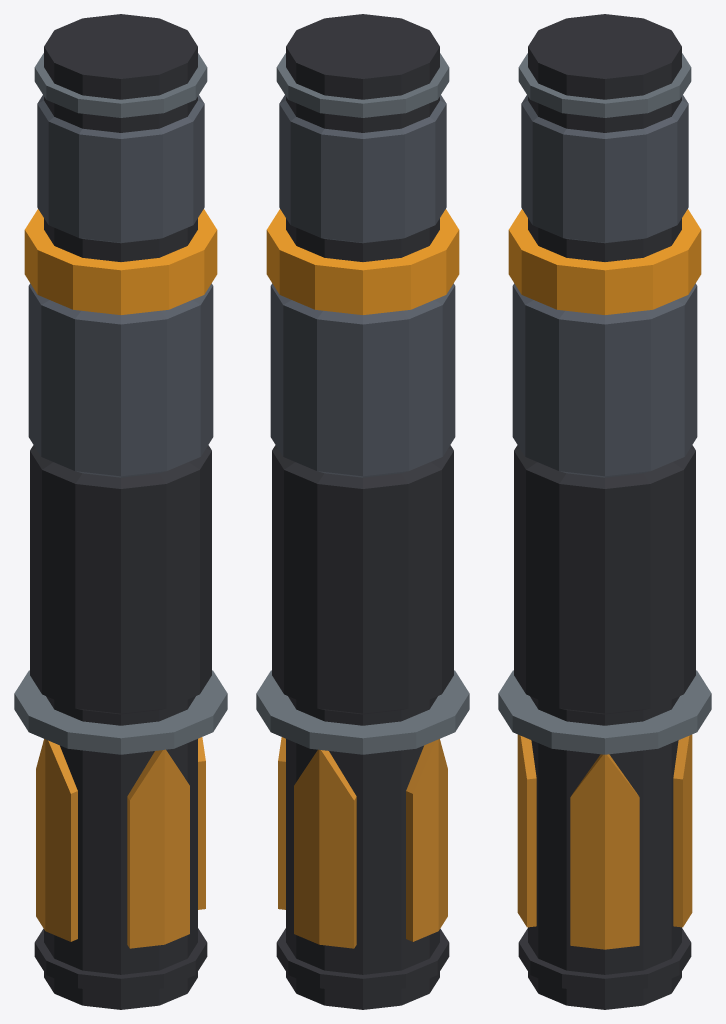
Rendered from SM_Electric_pipe.glb.
3 views of the same model, side by side, from view 1: azimuth 30°, elevation 25°; view 2: azimuth 150°, elevation 25°; view 3: azimuth 270°, elevation 25° (orthographic).
Parts seen in each view (by area): view 1: SM_Electric_pipe; view 2: SM_Electric_pipe; view 3: SM_Electric_pipe.
Part boxes in pixels (x1=…): SM_Electric_pipe: x1=14, y1=14, x2=227, y2=1009; SM_Electric_pipe: x1=256, y1=14, x2=469, y2=1009; SM_Electric_pipe: x1=498, y1=14, x2=711, y2=1009.
Bounding box in the file's own units: 0.4151 × 2 × 0.4151.
1 material, 1 textured.
